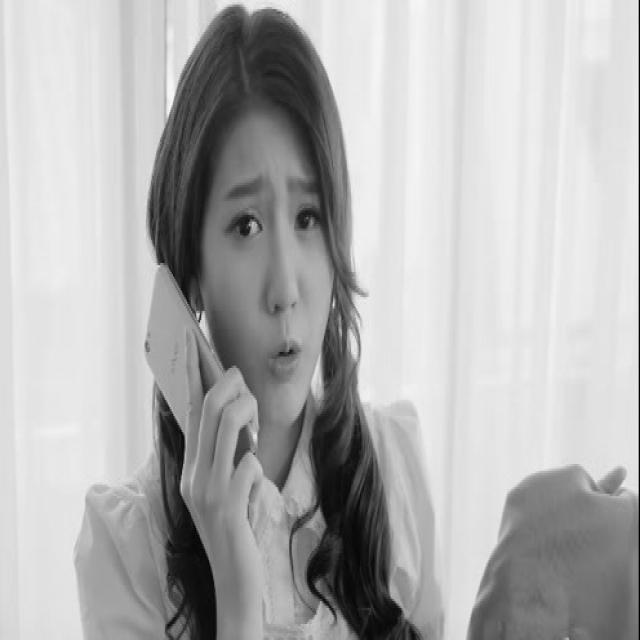phone: (129, 233, 270, 546)
